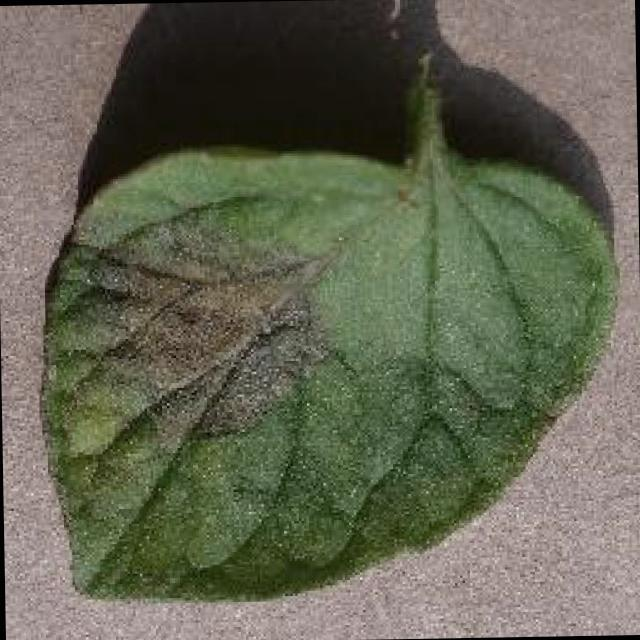Tomato late blight leaf: (35, 136, 627, 612)
